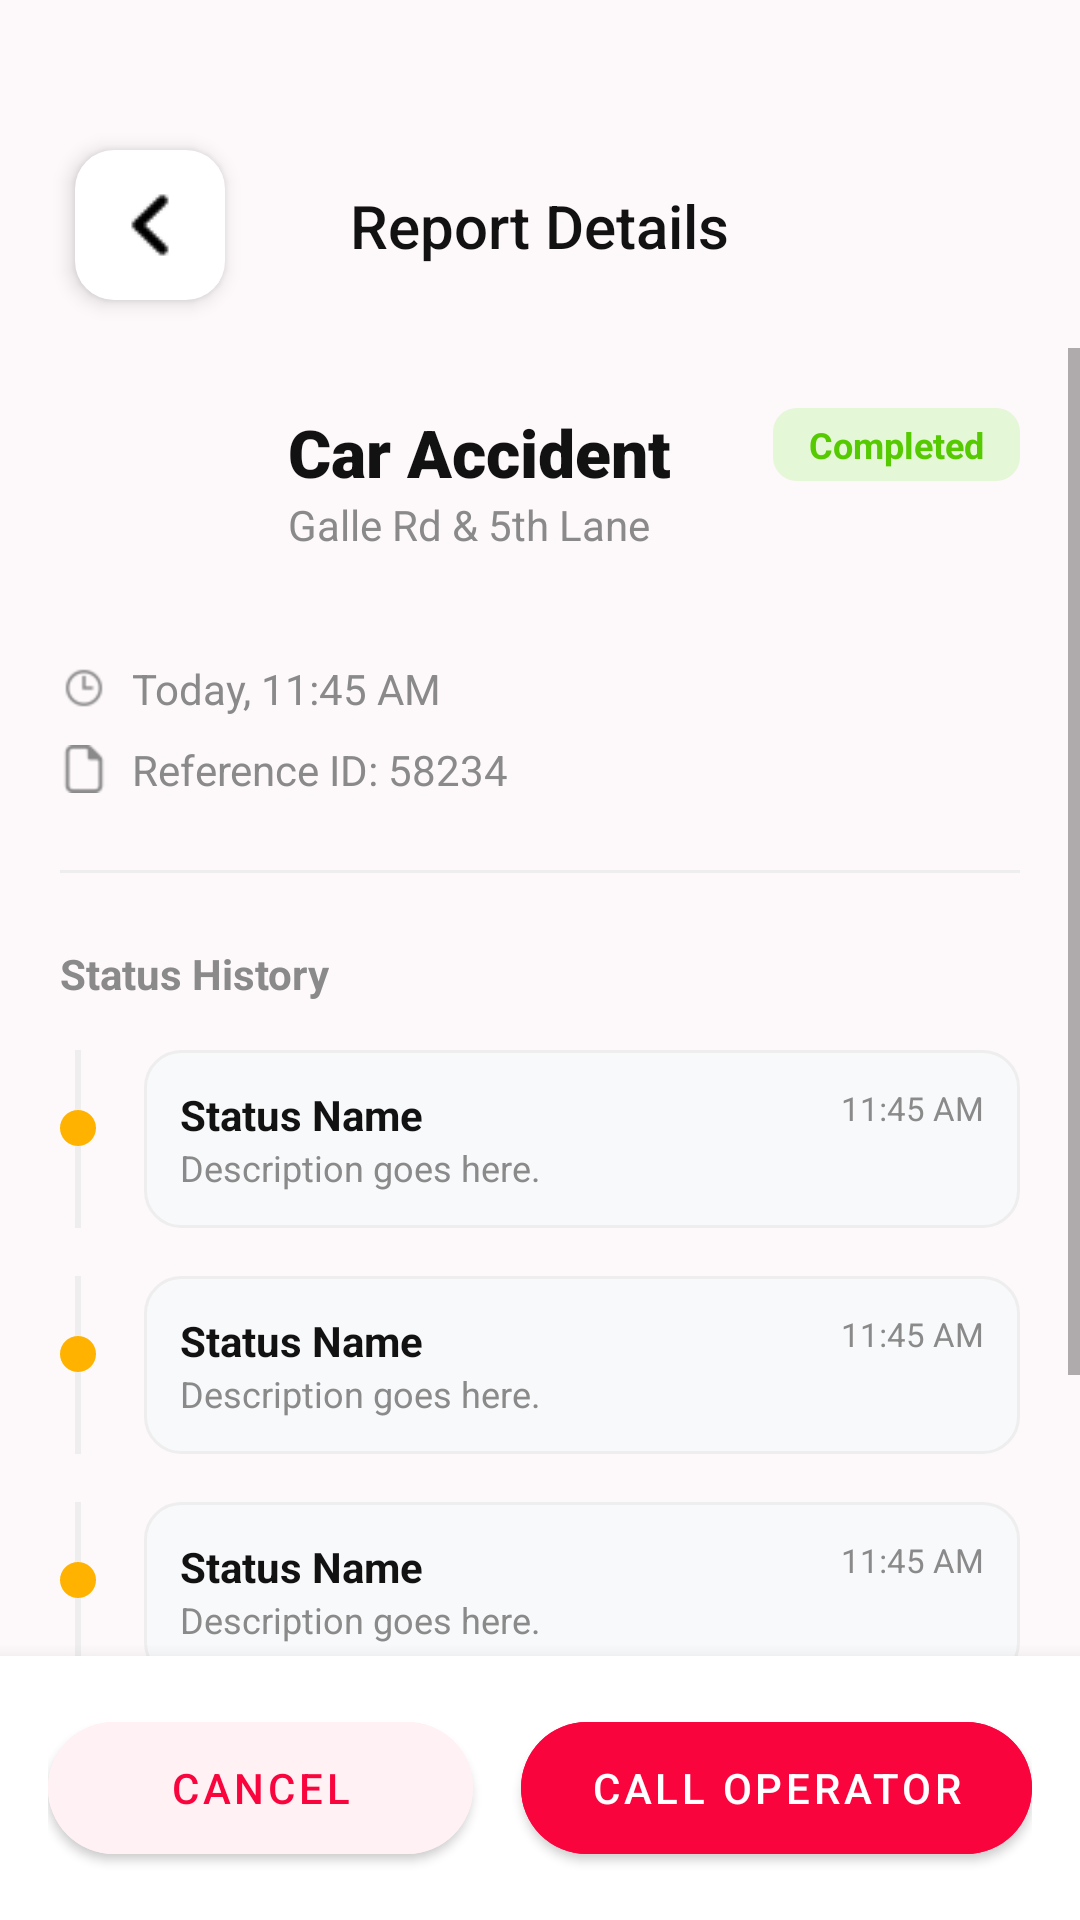

Where to tap for icons on this 1080 × 1920 app screen, as point (x, y):
Back: point (150, 225)
clock: point (84, 688)
file: point (84, 769)
